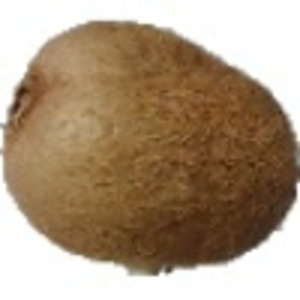kiwi: (1, 17, 300, 288)
